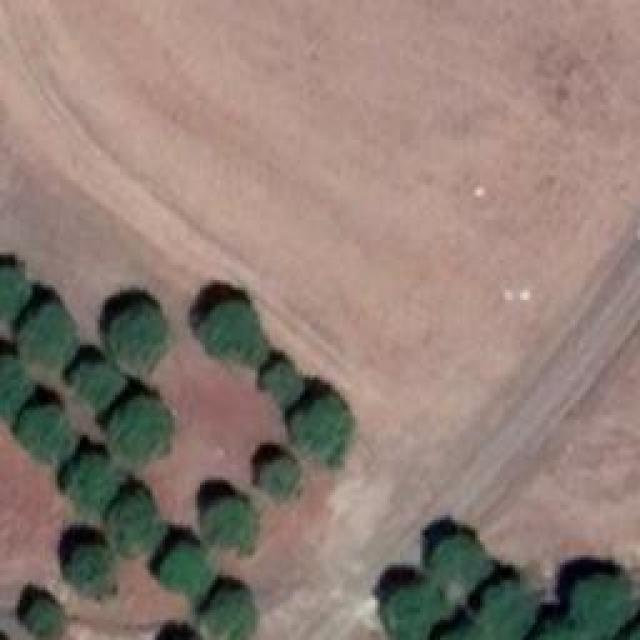Tree: (290, 397, 355, 465), (108, 305, 168, 368), (203, 305, 263, 363), (573, 573, 626, 636), (378, 585, 438, 640), (110, 490, 160, 555), (20, 305, 73, 365), (120, 395, 170, 458), (195, 498, 253, 551), (70, 450, 125, 505), (205, 587, 262, 640), (438, 532, 488, 590), (15, 408, 70, 458), (158, 543, 211, 593), (67, 545, 115, 600), (485, 583, 530, 638), (73, 365, 118, 413), (258, 455, 301, 495), (263, 362, 306, 400), (0, 353, 25, 416), (0, 268, 28, 321), (23, 598, 58, 638), (622, 622, 640, 640)
